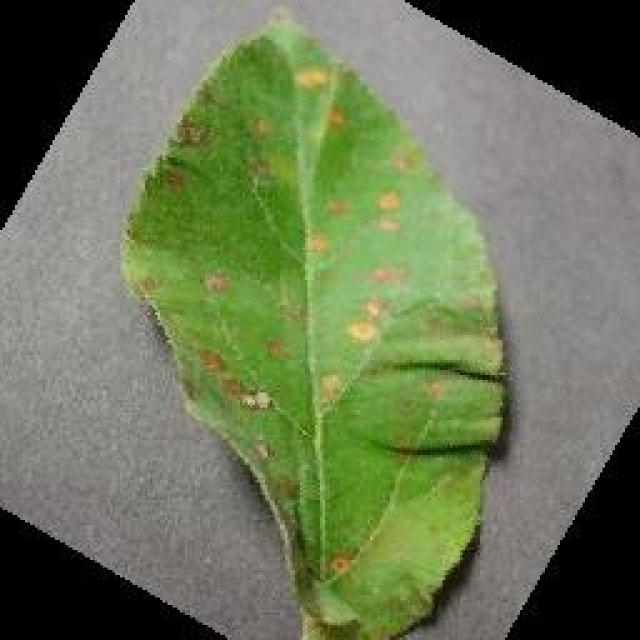apple rust disease: (115, 5, 513, 637)
